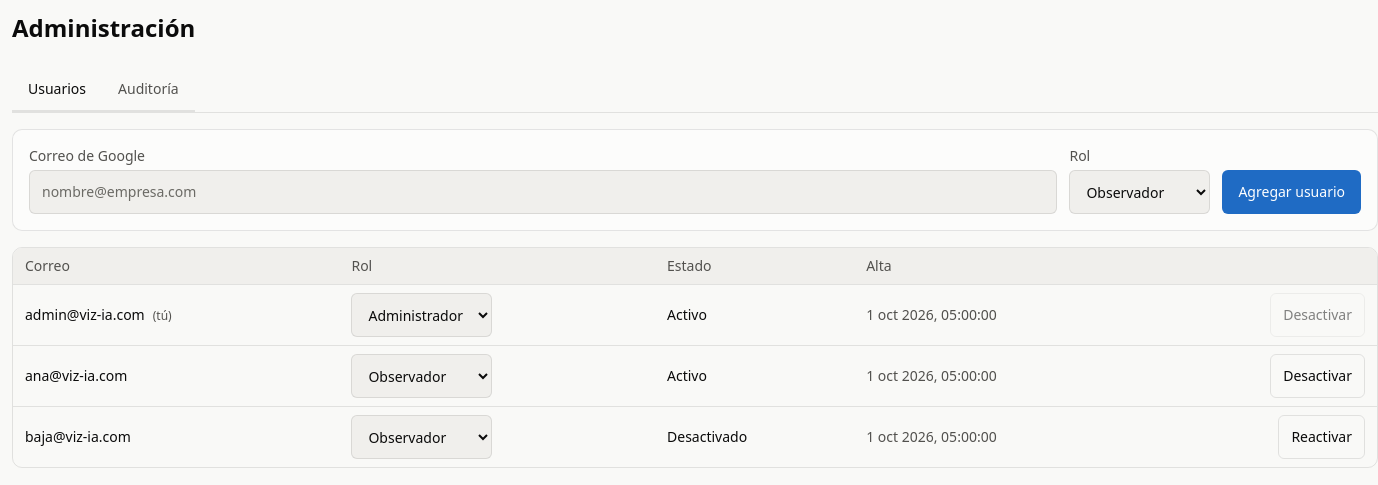
Test: AdminPage - usuarios › valida el correo antes de enviar
Type "no-es-un-correo" into the field labelled "Correo de Google" at x=543, y=192, box [29,170,1057,214]
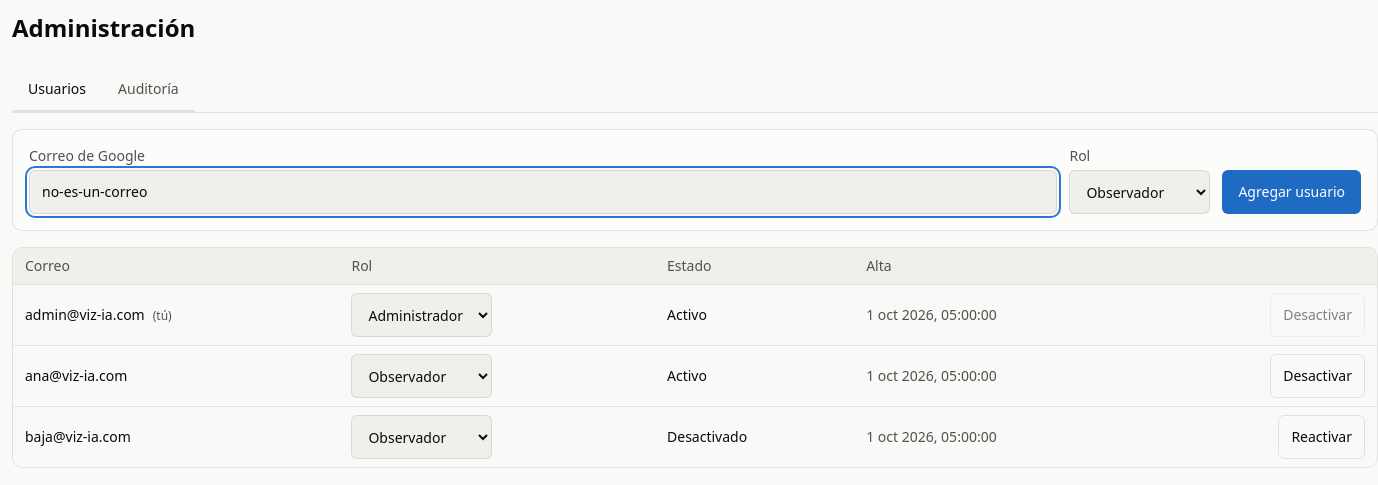
Click the button "Agregar usuario" at x=1292, y=192, box [1222,170,1361,214]
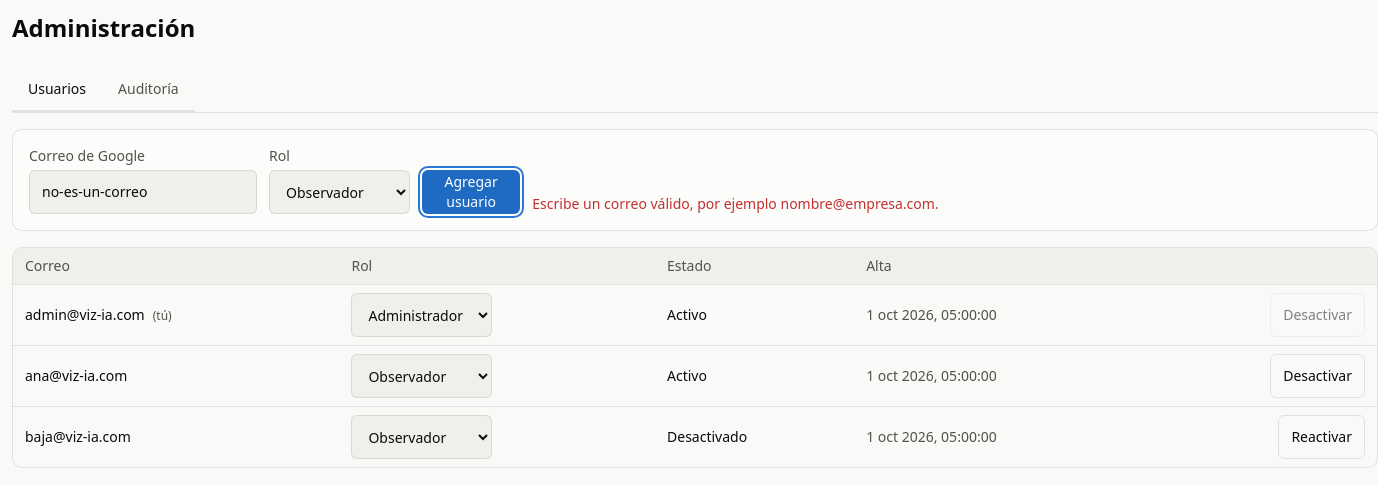
Now the message shows "Escribe un correo válido", box [532,194,939,213]
